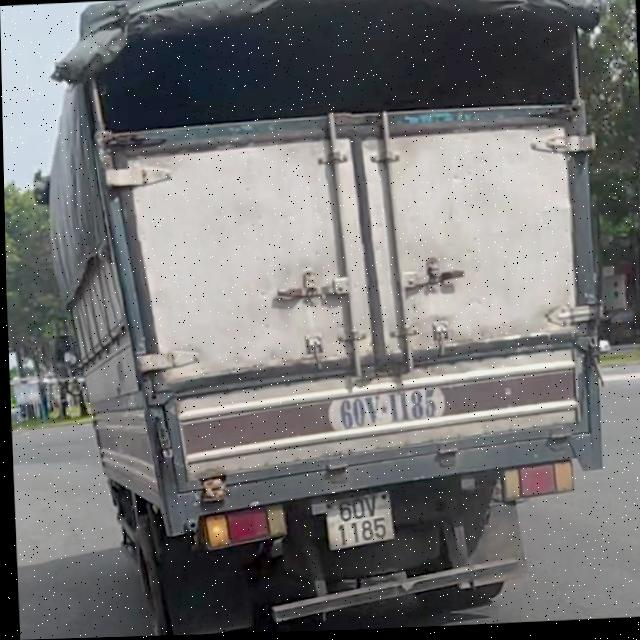car: (23, 0, 623, 639)
plate: (312, 485, 403, 554)
